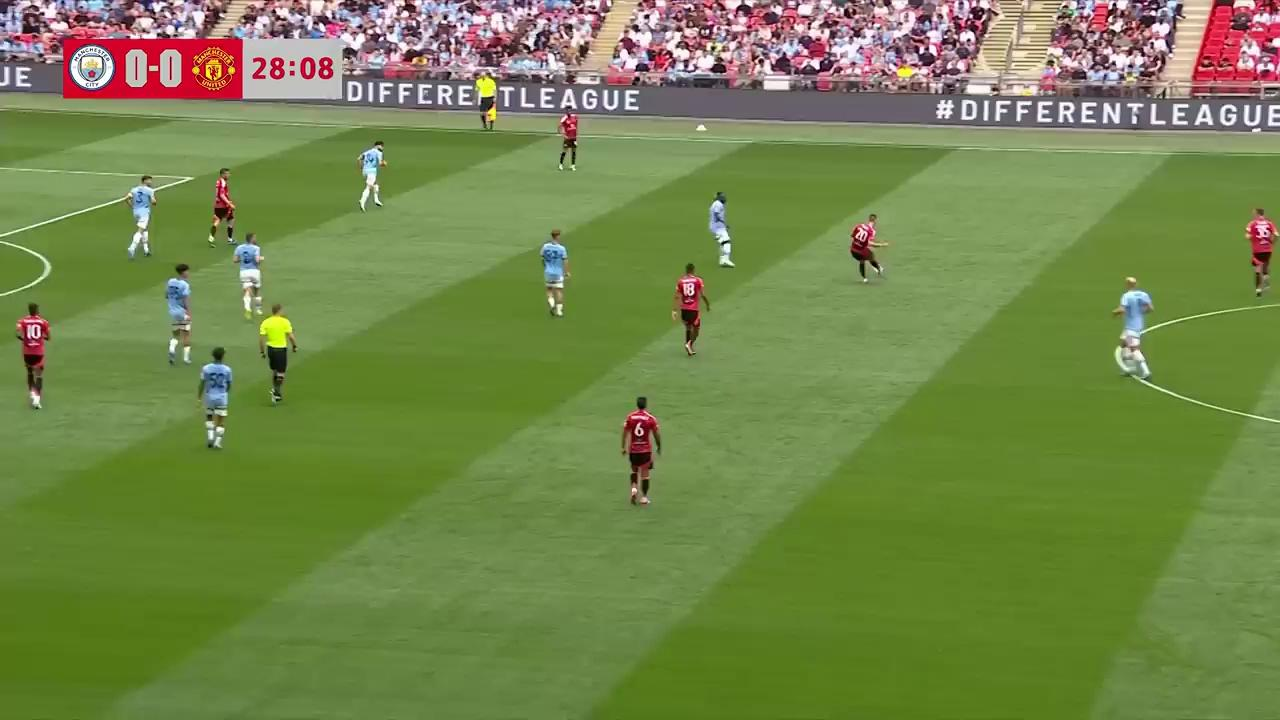player: (621, 396, 660, 508), (1113, 274, 1151, 380), (197, 348, 234, 450), (16, 302, 50, 410), (673, 263, 710, 356), (1244, 206, 1277, 297), (164, 263, 192, 365), (123, 175, 156, 259), (233, 231, 264, 319), (849, 214, 888, 283), (540, 229, 570, 318), (208, 168, 236, 248), (357, 140, 387, 211), (709, 191, 736, 268), (557, 108, 579, 171)
referee: (258, 302, 298, 404), (476, 69, 500, 132)
